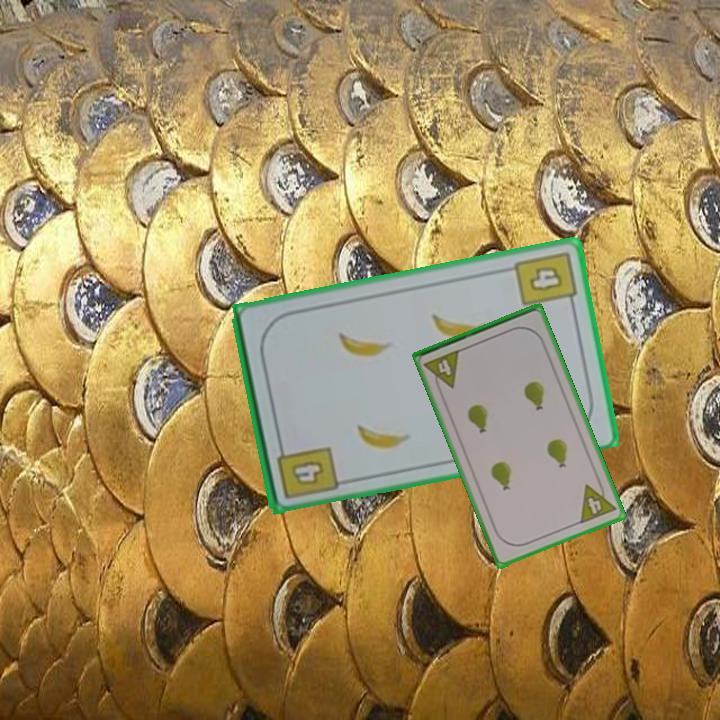4b: (273, 437, 341, 502), (511, 247, 579, 311)
4p: (576, 476, 619, 527), (421, 346, 463, 395)
